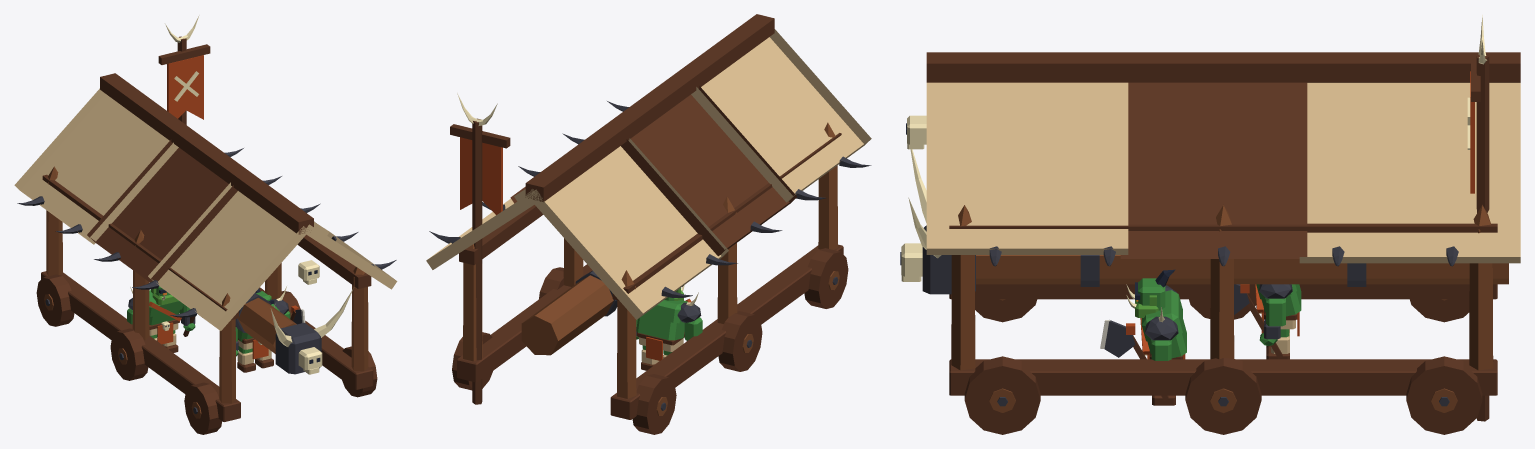
Rendered from OrcRam.fbx.
The picture shows the model from 3 angles, left to right: view 1: azimuth 30°, elevation 25°; view 2: azimuth 150°, elevation 25°; view 3: azimuth 270°, elevation 25°; orthographic projection. The views are drawn at different scales.
Visible parts, largest first — view 1: OrcRam, OrcRam-Log; view 2: OrcRam, OrcRam-Log; view 3: OrcRam, OrcRam-Log.
Part boxes in pixels (x1=…): OrcRam: x1=14, y1=15, x2=397, y2=434; OrcRam-Log: x1=235, y1=288, x2=353, y2=374; OrcRam: x1=426, y1=14, x2=871, y2=434; OrcRam-Log: x1=521, y1=270, x2=617, y2=355; OrcRam: x1=906, y1=15, x2=1520, y2=434; OrcRam-Log: x1=900, y1=149, x2=1508, y2=294.
Size of the model in its own units: 1.04 by 1.14 by 1.63.
